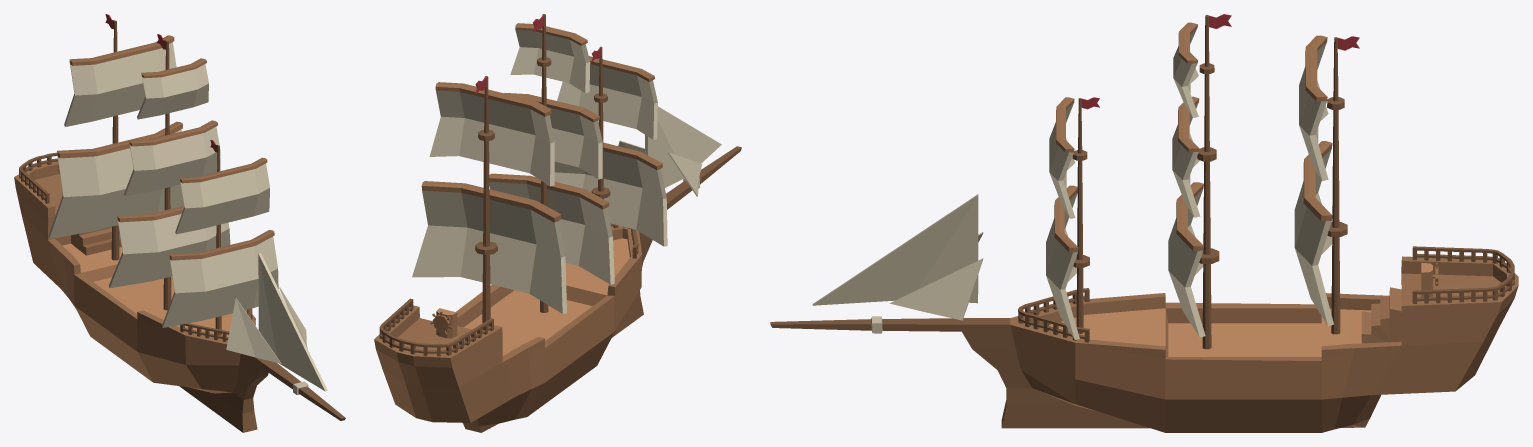
Rendered from q-sail-ship-clzo4mbpql.glb.
3 renders of one model, left to right at view 1: azimuth 30°, elevation 25°; view 2: azimuth 150°, elevation 25°; view 3: azimuth 270°, elevation 25°, orthographic. The views are drawn at different scales.
Visible parts, largest first — view 1: BigShip, BackSail, MidleSail, Front Sail; view 2: BigShip, BackSail, MidleSail, Front Sail; view 3: BigShip, BackSail, MidleSail, Front Sail.
Boxes of the visible parts, left/top/right/bottom form: BigShip: left=14, top=14, right=345, bottom=432; BackSail: left=48, top=35, right=183, bottom=238; MidleSail: left=109, top=58, right=230, bottom=288; Front Sail: left=162, top=157, right=278, bottom=327; BigShip: left=374, top=14, right=741, bottom=432; BackSail: left=412, top=82, right=566, bottom=313; MidleSail: left=489, top=23, right=614, bottom=284; Front Sail: left=554, top=56, right=667, bottom=246; BigShip: left=770, top=14, right=1518, bottom=432; BackSail: left=1294, top=35, right=1333, bottom=325; MidleSail: left=1168, top=22, right=1205, bottom=337; Front Sail: left=1046, top=97, right=1079, bottom=339.
Size of the model in its own units: 1.7 by 3.85 by 6.38.
